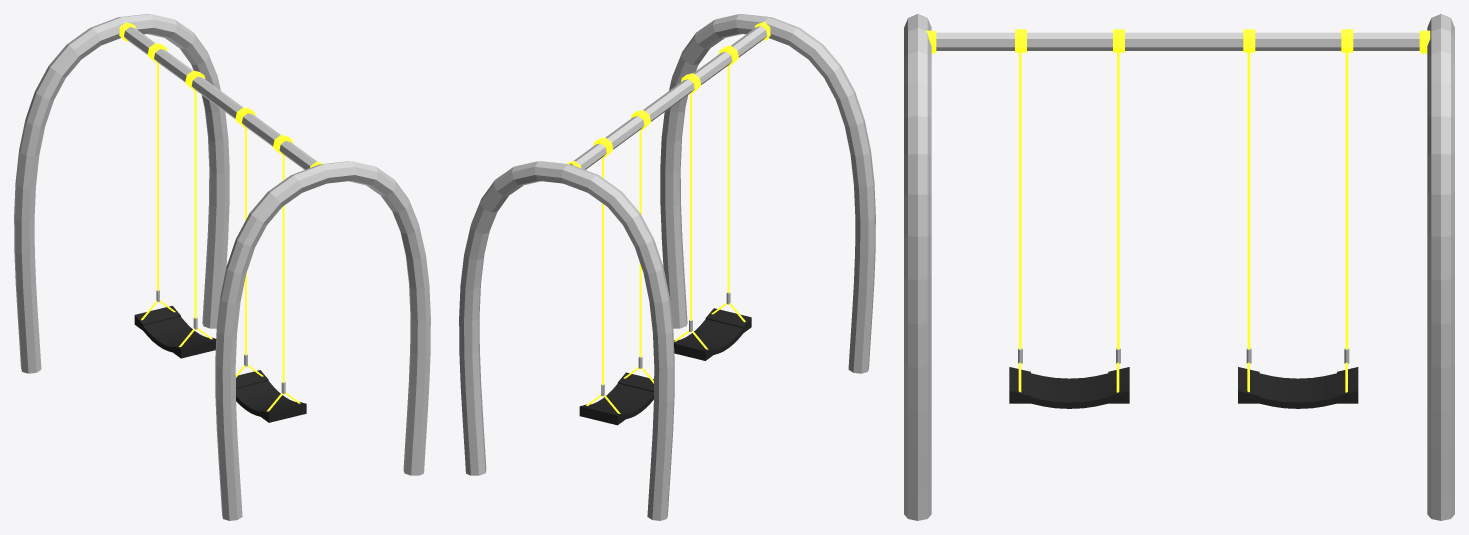
The model's file is Park_Swing.fbx.
3 views of the same model, side by side, from view 1: azimuth 30°, elevation 25°; view 2: azimuth 150°, elevation 25°; view 3: azimuth 270°, elevation 25° (orthographic). The views are drawn at different scales.
Parts seen in each view (by area): view 1: Park_Swing; view 2: Park_Swing; view 3: Park_Swing.
Part boxes in pixels (x1=…): Park_Swing: x1=14, y1=14, x2=430, y2=520; Park_Swing: x1=459, y1=14, x2=875, y2=520; Park_Swing: x1=904, y1=14, x2=1454, y2=520.
Bounding box in the file's own units: 2.32 × 3.43 × 3.98.
